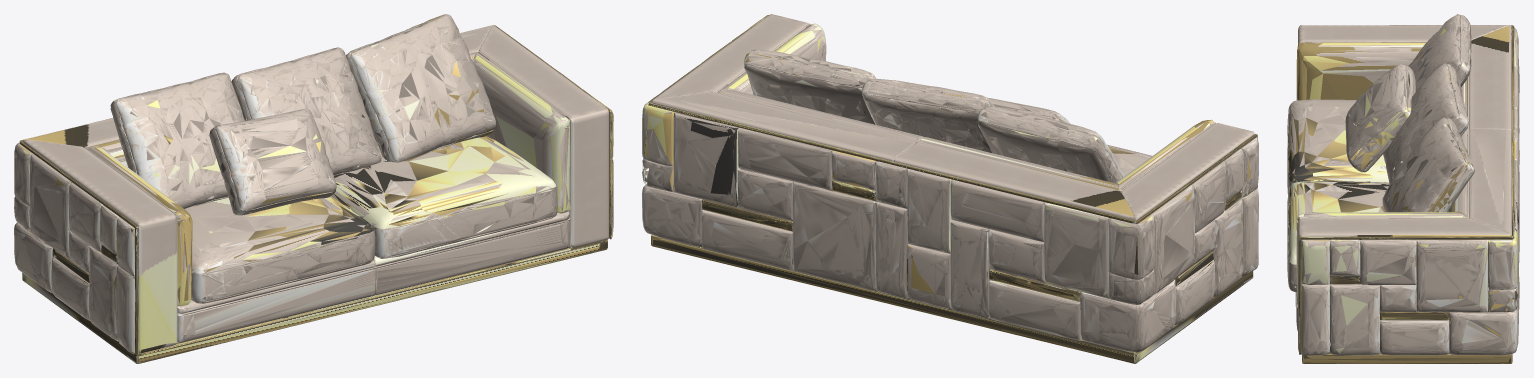
File: raw_model.obj
3 renders of one model, left to right at view 1: azimuth 30°, elevation 25°; view 2: azimuth 150°, elevation 25°; view 3: azimuth 270°, elevation 25°, orthographic. The views are drawn at different scales.
Parts seen in each view (by area): view 1: solid_001, solid_002; view 2: solid_001, solid_002; view 3: solid_001, solid_002.
Boxes of the visible parts, bbox=[...] form: solid_001: bbox=[14, 14, 613, 354]; solid_002: bbox=[19, 25, 612, 363]; solid_001: bbox=[642, 14, 1258, 351]; solid_002: bbox=[648, 15, 1257, 363]; solid_001: bbox=[1287, 14, 1519, 355]; solid_002: bbox=[1299, 25, 1514, 363].
Size of the model in its own units: 2.41 by 0.893 by 1.09.
1 material, 1 textured.
